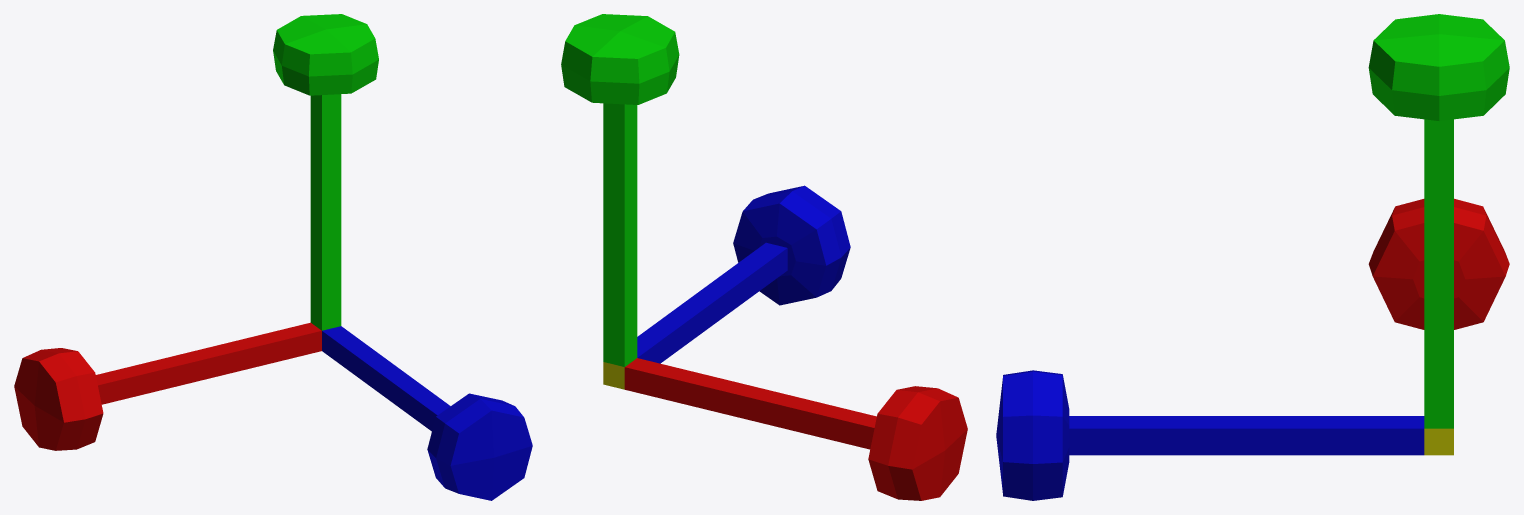
Rendered from RotateGizmo.fbx.
The picture shows the model from 3 angles, left to right: view 1: azimuth 30°, elevation 25°; view 2: azimuth 150°, elevation 25°; view 3: azimuth 270°, elevation 25°; orthographic projection. The views are drawn at different scales.
Parts seen in each view (by area): view 1: GizmoYAxis, GizmoXAxis, GizmoZAxis; view 2: GizmoYAxis, GizmoXAxis, GizmoZAxis, GizmoCenter; view 3: GizmoZAxis, GizmoYAxis, GizmoXAxis, GizmoCenter.
Boxes of the visible parts, x1,y1,x2,y2 form: GizmoYAxis: (273,14,378,330); GizmoXAxis: (14,322,321,450); GizmoZAxis: (322,326,532,500); GizmoYAxis: (561,14,679,366); GizmoXAxis: (624,358,967,500); GizmoZAxis: (637,185,850,363); GizmoCenter: (603,362,624,389); GizmoZAxis: (996,370,1424,500); GizmoYAxis: (1368,14,1509,428); GizmoXAxis: (1368,198,1509,329); GizmoCenter: (1424,428,1453,455).
Bounding box in the file's own units: 17.32 × 17.43 × 17.43.
